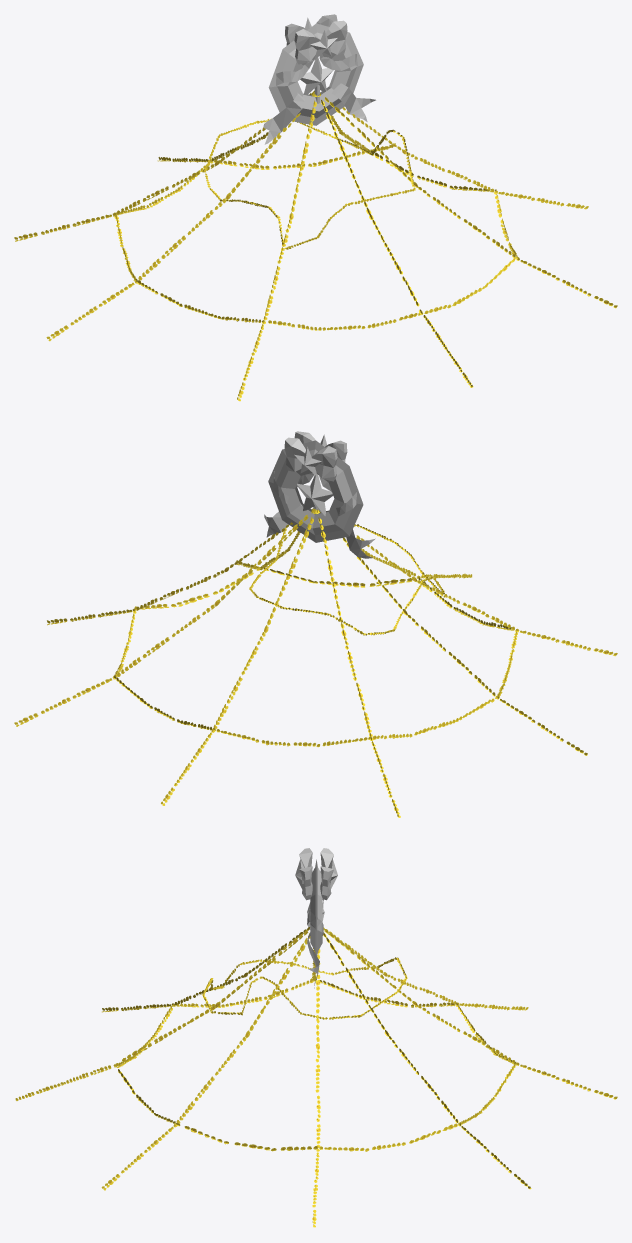
The model's file is christmas_light_c.FBX.
The picture shows the model from 3 angles, top to bottom: view 1: azimuth 30°, elevation 25°; view 2: azimuth 150°, elevation 25°; view 3: azimuth 270°, elevation 25°; orthographic projection. The views are drawn at different scales.
Visible parts, largest first — view 1: christmas_light_c, christmas_light_c01; view 2: christmas_light_c, christmas_light_c01; view 3: christmas_light_c, christmas_light_c01.
Boxes of the visible parts, x1,y1,x2,y2 form: christmas_light_c: (14,90,617,401); christmas_light_c01: (263,14,375,144); christmas_light_c: (14,508,617,817); christmas_light_c01: (264,431,375,558); christmas_light_c: (15,927,617,1227); christmas_light_c01: (295,848,337,988).
Bounding box in the file's own units: 996 × 445 × 997.
